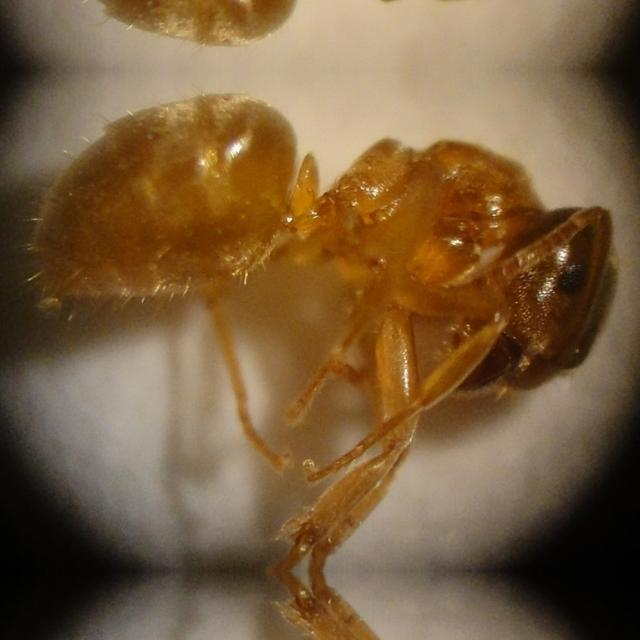Lasius: (41, 69, 623, 478)
